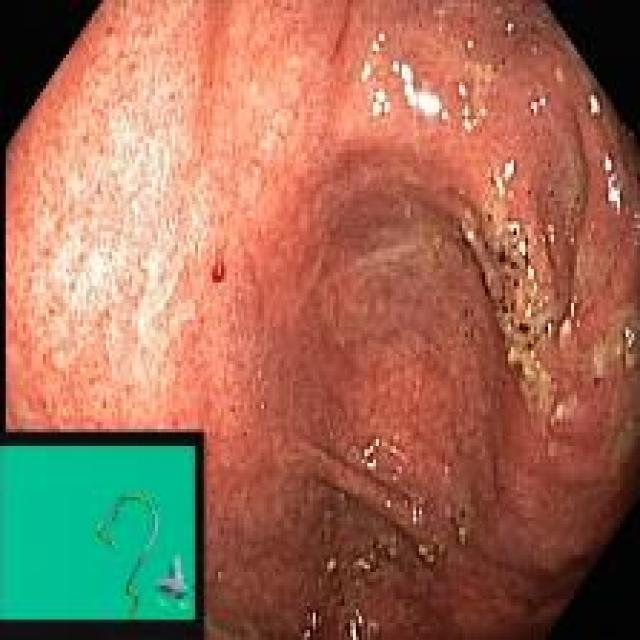ulcerative-colitis-grade-1: (6, 3, 640, 640)
